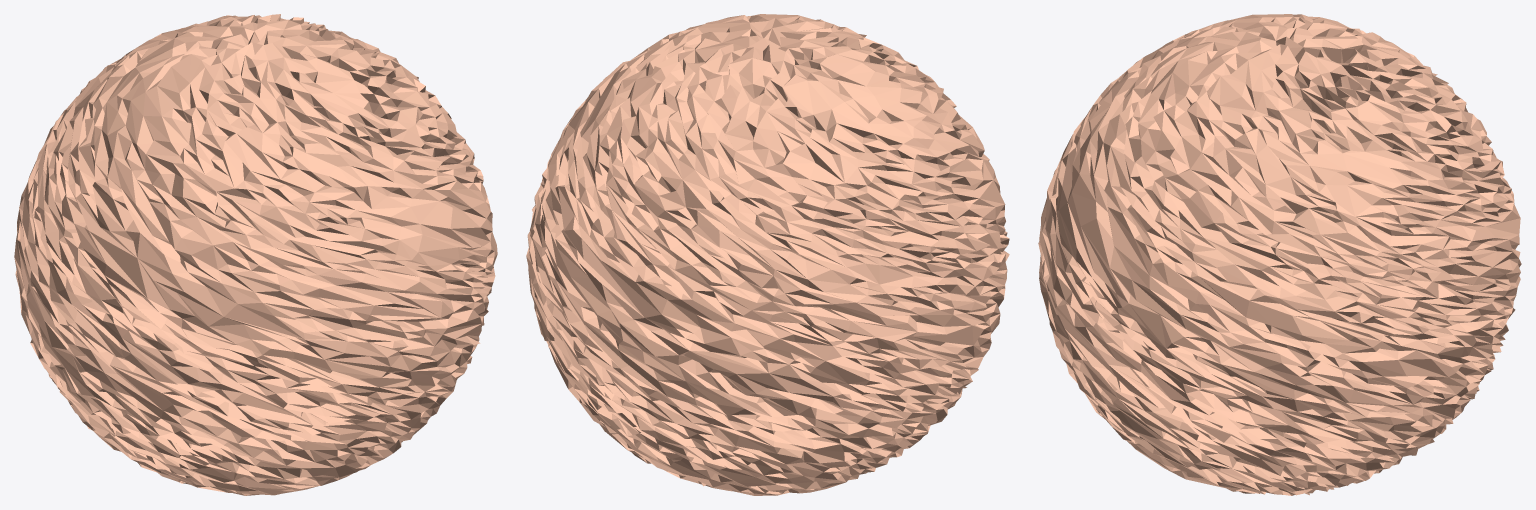
File: sun.glb
3 views of the same model, side by side, from view 1: azimuth 30°, elevation 25°; view 2: azimuth 150°, elevation 25°; view 3: azimuth 270°, elevation 25° (orthographic).
Visible parts, largest first — view 1: Sun; view 2: Sun; view 3: Sun.
Boxes of the visible parts, bbox=[...] form: Sun: bbox=[14, 14, 497, 495]; Sun: bbox=[526, 14, 1009, 495]; Sun: bbox=[1038, 14, 1521, 495].
Size of the model in its own units: 1.42 by 1.43 by 1.42.
